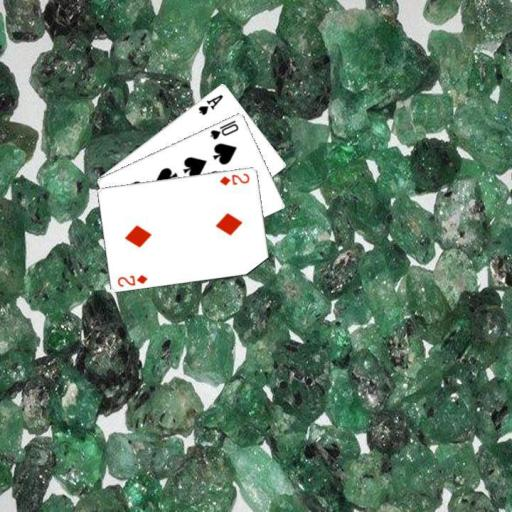10S: (207, 117, 240, 141)
2D: (115, 271, 149, 288), (217, 170, 251, 186)
AS: (195, 91, 225, 116)
